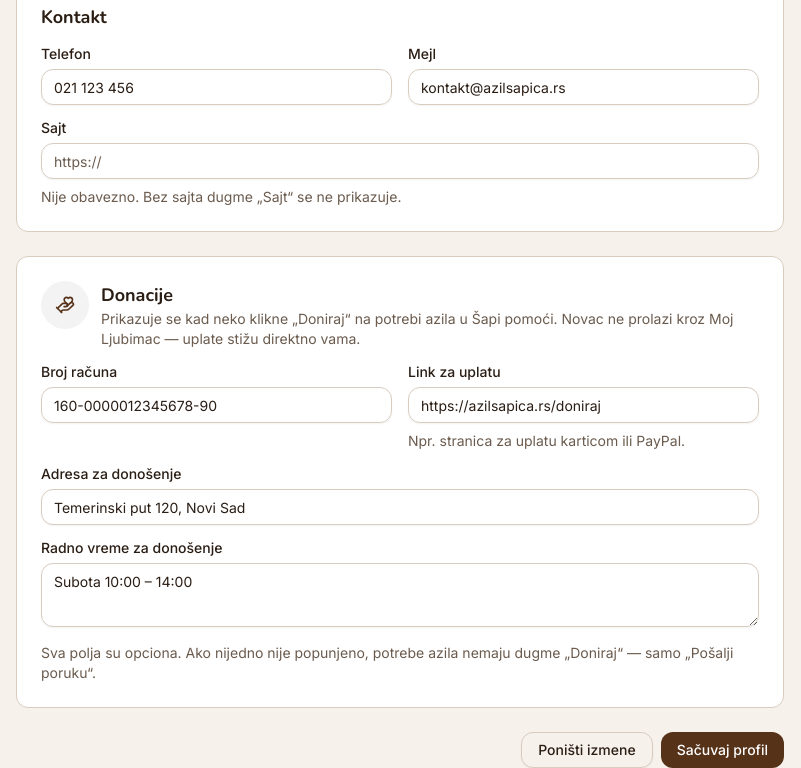
Test case: S29 Donacije — inline errors (FR-72 #3) › server 422 fields.payment_url and fields.bank_account = invalid render inline errors
(page scrolled)
Replace the text in the field labelled "Link za uplatu" with "https://azilsapica.rs/novi" at (584, 405), box [408,387,759,423]
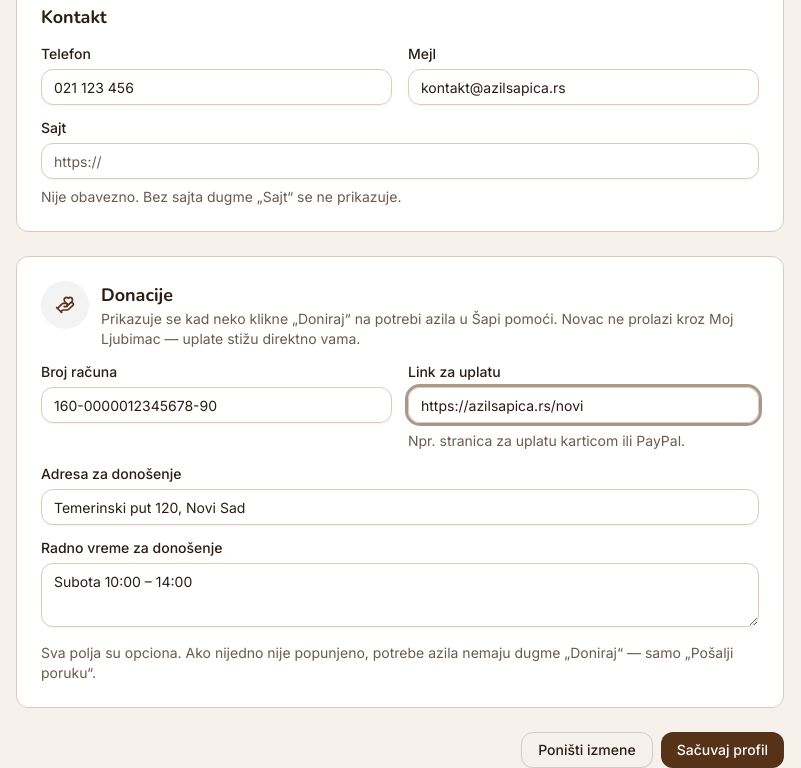
Click the button "Sačuvaj profil" at (722, 750), box [661,732,784,767]
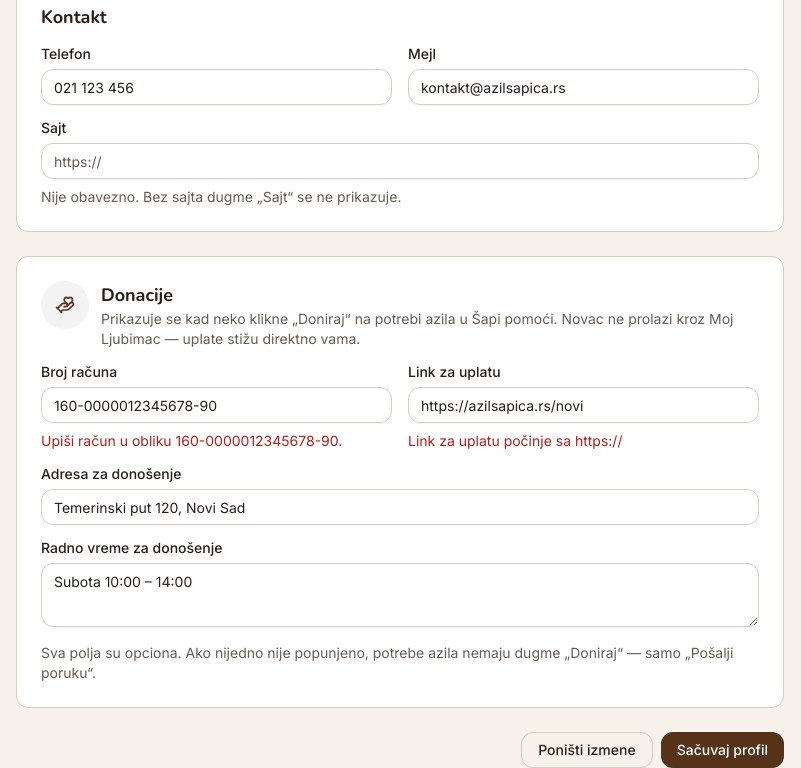
Expected: the text "Link za uplatu počinje sa https://" is shown, [408,432,622,449]
Expected: the text "Upiši račun u obliku 160-0000012345678-90." is shown, [41,431,392,451]
